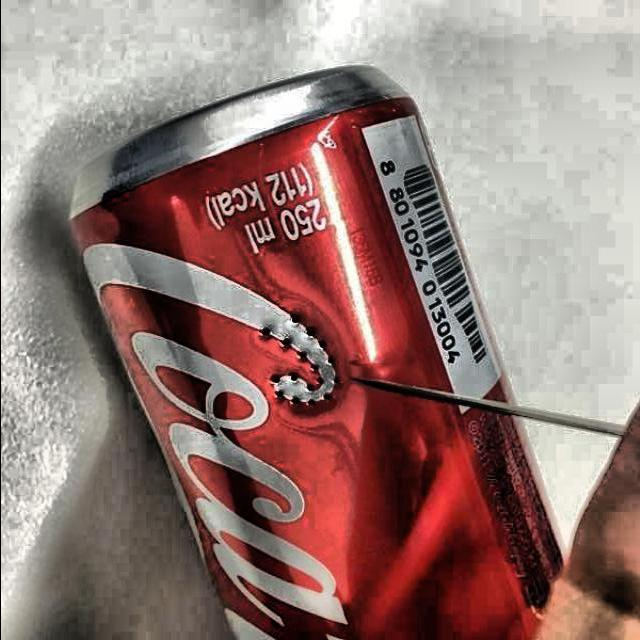litter: (60, 58, 598, 640)
